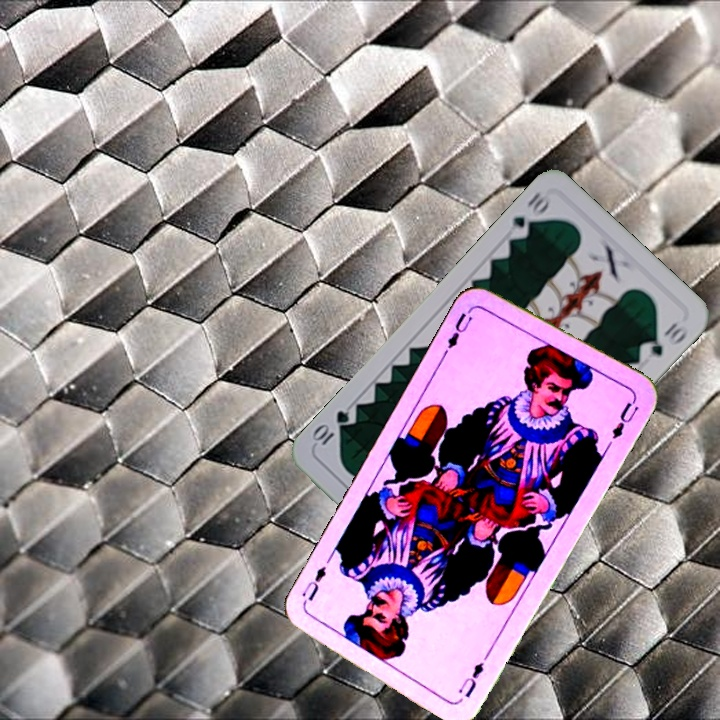EU: (443, 304, 475, 352), (455, 658, 487, 700)
G10: (504, 188, 555, 243)
